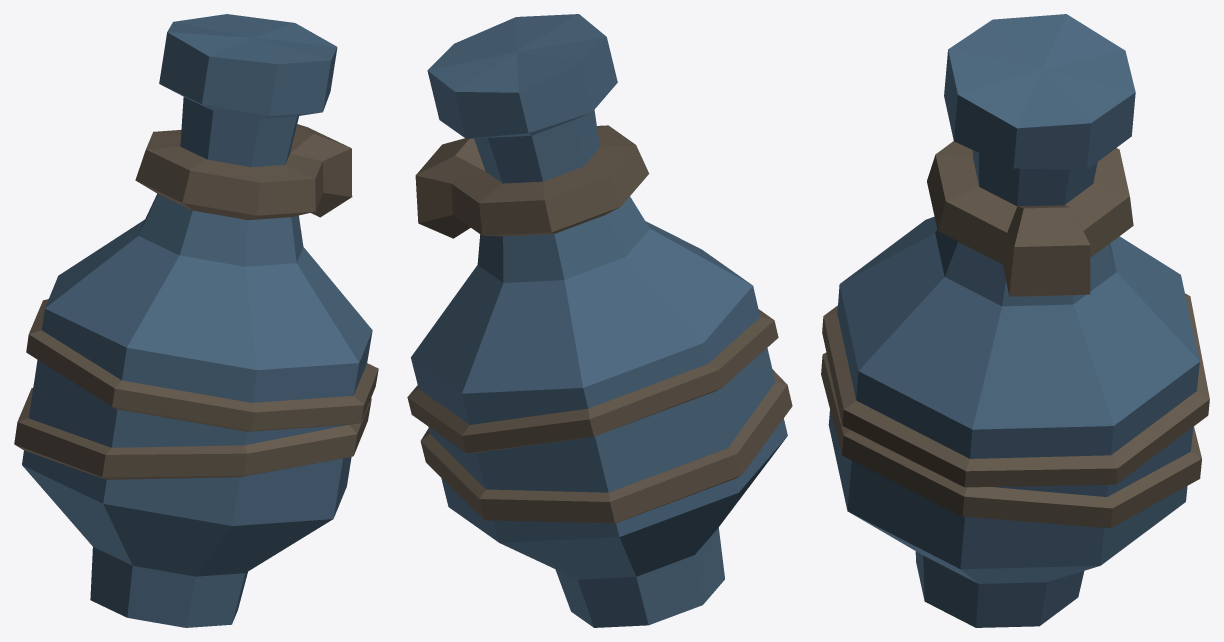
File: Chr_HipsAttachment_02_Static.fbx
3 renders of one model, left to right at view 1: azimuth 30°, elevation 25°; view 2: azimuth 150°, elevation 25°; view 3: azimuth 270°, elevation 25°, orthographic. The views are drawn at different scales.
Parts seen in each view (by area): view 1: Chr_HipsAttachment_02_Static; view 2: Chr_HipsAttachment_02_Static; view 3: Chr_HipsAttachment_02_Static.
Part boxes in pixels (x1,y1,x2,y2): Chr_HipsAttachment_02_Static: [14, 14, 378, 627]; Chr_HipsAttachment_02_Static: [407, 14, 792, 627]; Chr_HipsAttachment_02_Static: [821, 14, 1209, 627].
Size of the model in its own units: 0.1185 by 0.1959 by 0.1149.
